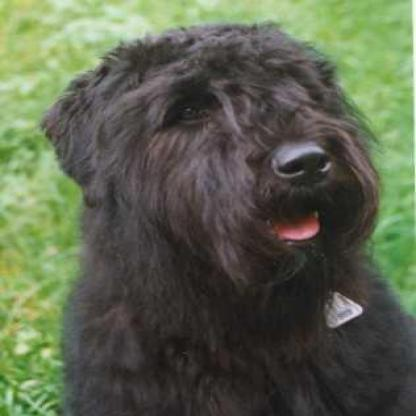Bouvier_des_Flandres: (38, 22, 414, 414)
